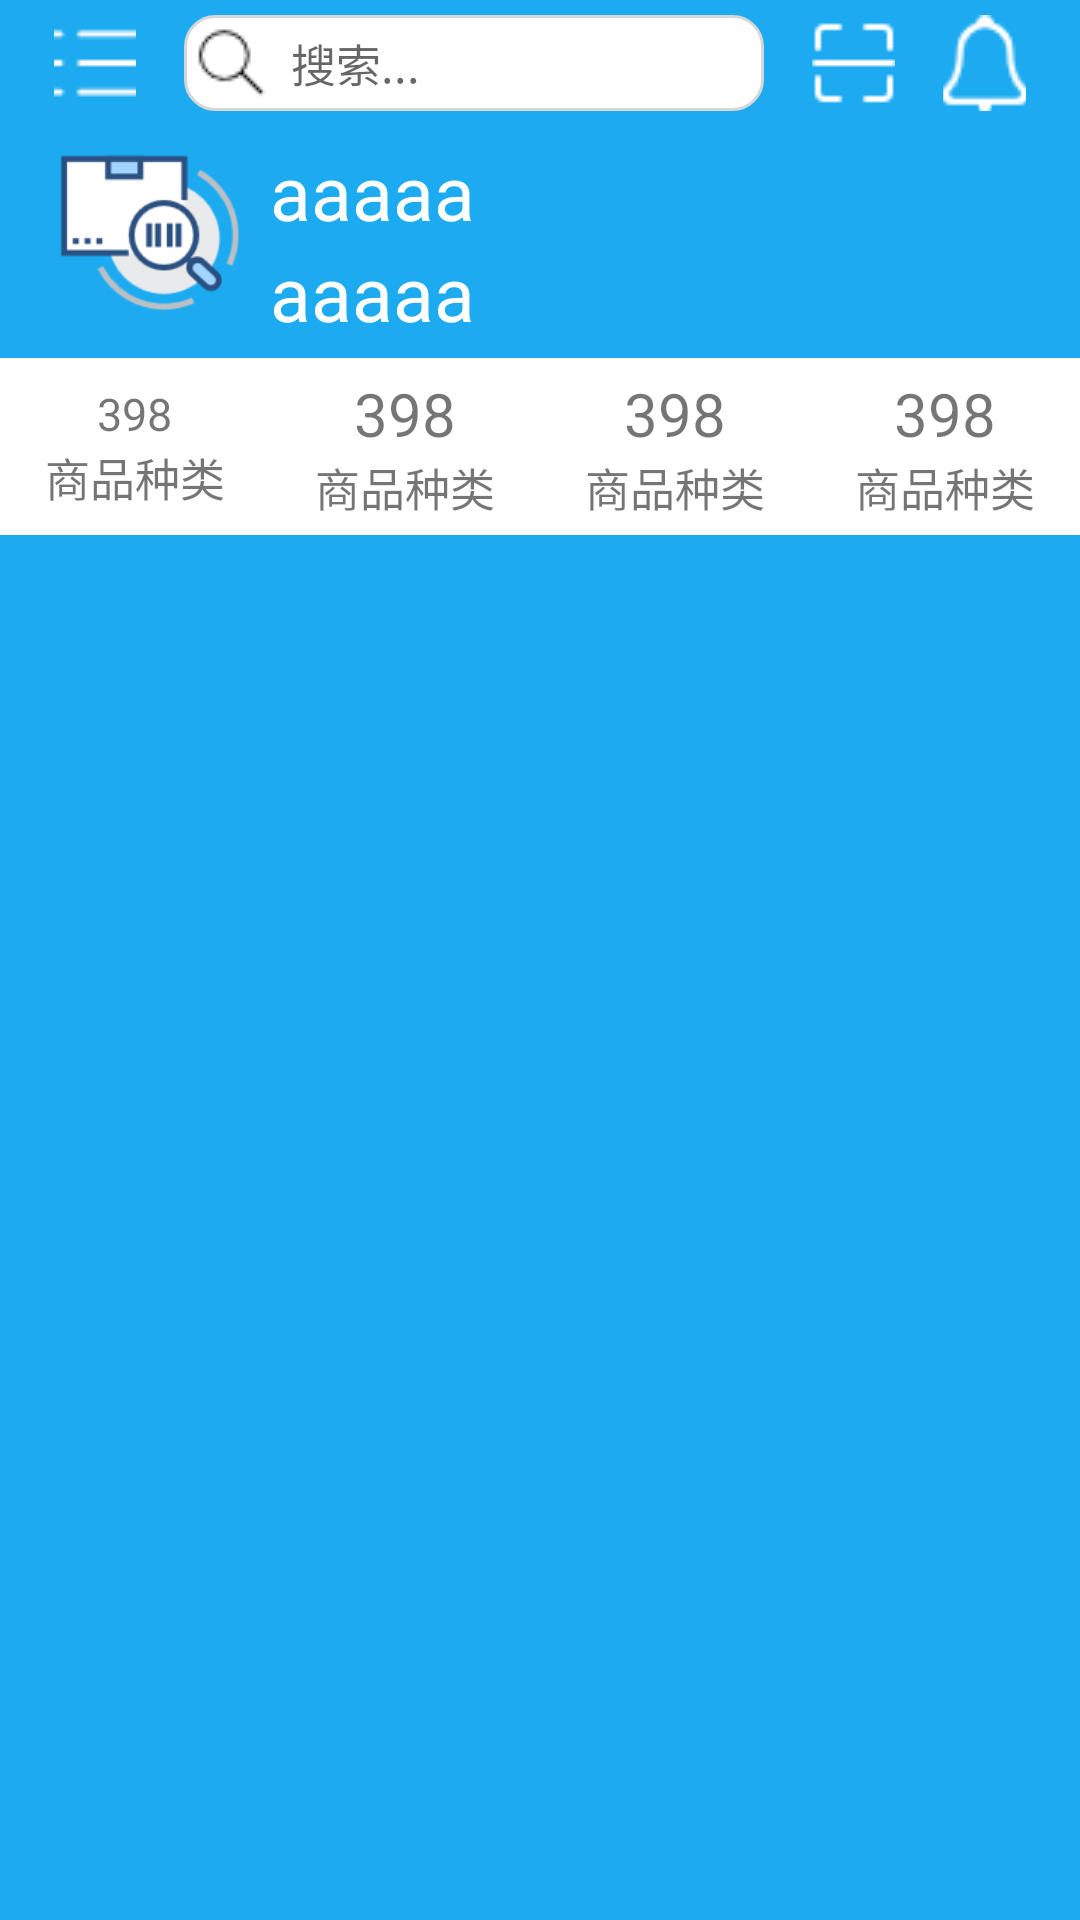

Screen size 1080 × 1920. Icon name, then its box in pixels as (x1, y1, x2, y2):
all: (54, 29, 136, 97)
remind: (943, 15, 1026, 111)
sweep: (812, 23, 895, 103)
